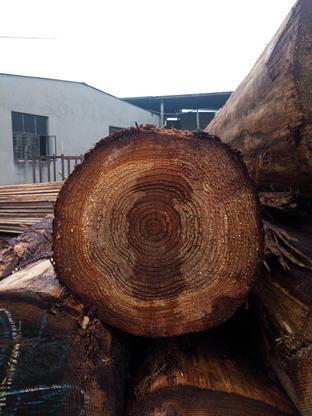mood: (50, 129, 264, 337)
